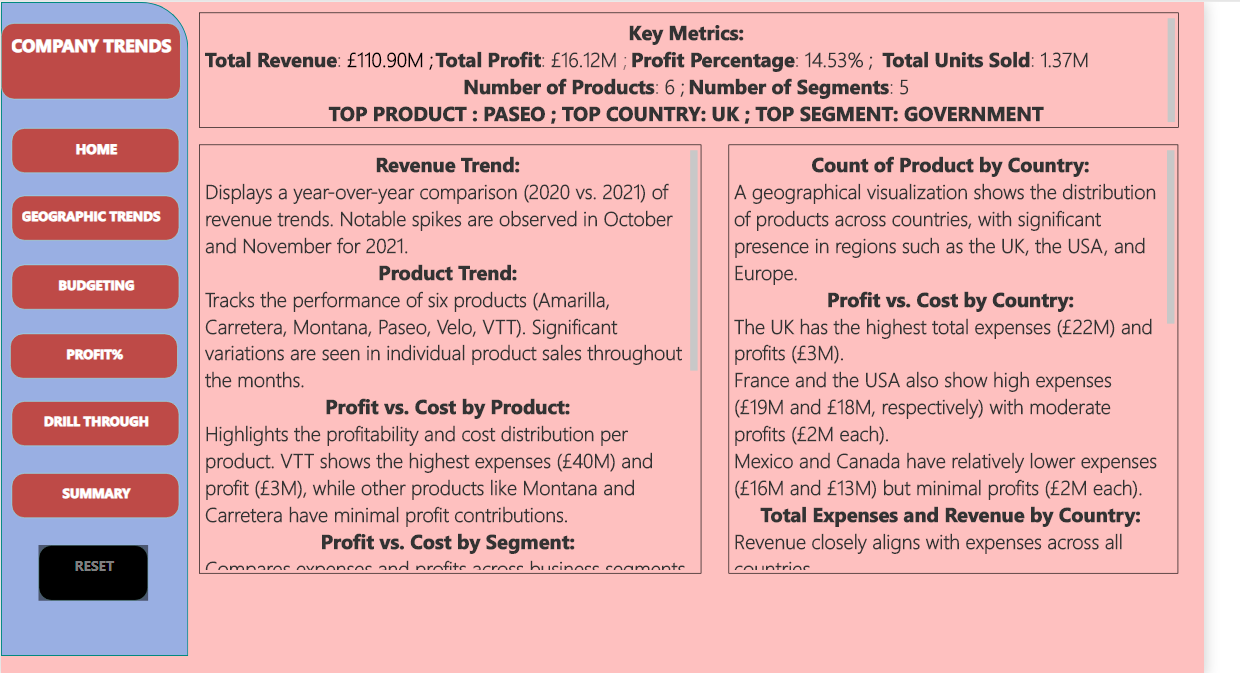

This screenshot's page, from the dashboard's own definition file:
{"tool":"powerbi","page":{"name":"Summary","canvas":[1280,720],"ordinal":5},"visuals":[{"type":"shape","box":[0,0,199.6,696.1],"z":0},{"type":"textbox","box":[0,22.4,191.6,81.4],"z":1000},{"type":"textbox","box":[11.2,279.4,178.8,47.9],"z":2000},{"type":"textbox","box":[11.2,205.9,178.8,47.9],"z":3000},{"type":"textbox","box":[11.2,134.1,178.8,47.9],"z":4000},{"type":"textbox","box":[39.9,577.9,116.5,59.1],"z":5000},{"type":"actionButton","box":[39.9,577.9,116.5,59.1],"z":6000},{"type":"actionButton","box":[11.2,134.1,178.8,49.5],"z":7000},{"type":"actionButton","box":[11.2,204.3,178.8,49.5],"z":8000},{"type":"actionButton","box":[12.8,277.8,178.8,49.5],"z":9000},{"type":"textbox","box":[9.6,352.8,178.8,47.9],"z":10000},{"type":"textbox","box":[11.2,424.7,178.8,47.9],"z":11000},{"type":"textbox","box":[11.2,501.3,178.8,47.9],"z":12000},{"type":"actionButton","box":[11.2,423.1,177.2,51.1],"z":13000},{"type":"actionButton","box":[11.2,351.2,177.2,51.1],"z":14000},{"type":"actionButton","box":[9.6,498.1,177.2,51.1],"z":15000},{"type":"textbox","box":[210.7,11.2,1042.5,122.9],"z":16000},{"type":"textbox","box":[210.7,151.7,534.8,456.6],"z":17000},{"type":"textbox","box":[774.3,151.7,478.9,456.6],"z":18000},{"type":"slicer","box":[312.9,124.5,300.1,300.1],"z":19000}]}

Visuals, with their boxes on the page's 1280x720 design canvas (x1, y1, x2, y2). These are canvas units, not pixel positions in the 1240x673 screenshot, which may show the page scaled, cropped or inside an application window:
shape: <region>0, 0, 200, 696</region>
textbox: <region>0, 22, 192, 104</region>
textbox: <region>11, 279, 190, 327</region>
textbox: <region>11, 206, 190, 254</region>
textbox: <region>11, 134, 190, 182</region>
textbox: <region>40, 578, 156, 637</region>
actionButton: <region>40, 578, 156, 637</region>
actionButton: <region>11, 134, 190, 184</region>
actionButton: <region>11, 204, 190, 254</region>
actionButton: <region>13, 278, 192, 327</region>
textbox: <region>10, 353, 188, 401</region>
textbox: <region>11, 425, 190, 473</region>
textbox: <region>11, 501, 190, 549</region>
actionButton: <region>11, 423, 188, 474</region>
actionButton: <region>11, 351, 188, 402</region>
actionButton: <region>10, 498, 187, 549</region>
textbox: <region>211, 11, 1253, 134</region>
textbox: <region>211, 152, 746, 608</region>
textbox: <region>774, 152, 1253, 608</region>
slicer: <region>313, 124, 613, 425</region>
